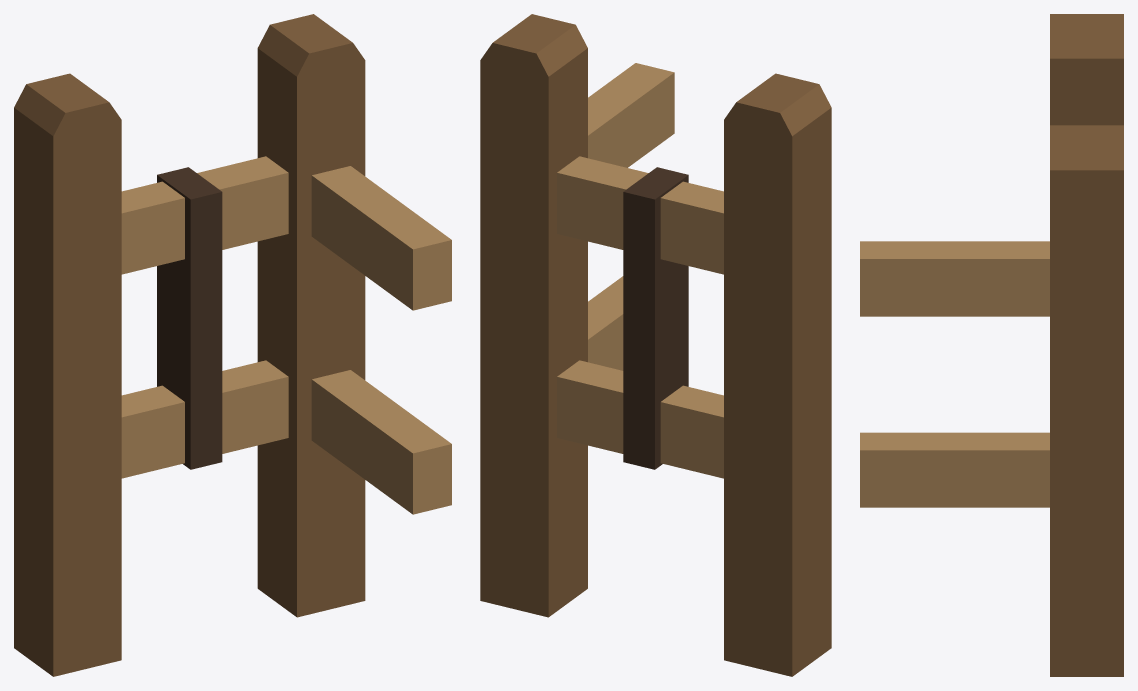
Rendered from TW_WOOD_CORNER_R90_A_LOD0.glb.
The picture shows the model from 3 angles, left to right: view 1: azimuth 30°, elevation 25°; view 2: azimuth 150°, elevation 25°; view 3: azimuth 270°, elevation 25°; orthographic projection. The views are drawn at different scales.
Parts seen in each view (by area): view 1: TW_WOOD_CORNER_R90_A_LOD0; view 2: TW_WOOD_CORNER_R90_A_LOD0; view 3: TW_WOOD_CORNER_R90_A_LOD0.
Boxes of the visible parts, bbox=[...] form: TW_WOOD_CORNER_R90_A_LOD0: bbox=[14, 14, 451, 676]; TW_WOOD_CORNER_R90_A_LOD0: bbox=[480, 14, 831, 676]; TW_WOOD_CORNER_R90_A_LOD0: bbox=[860, 14, 1123, 676].
Bounding box in the file's own units: 0.64 × 1.1 × 0.5.
Materials: 1 (1 with a texture image).
